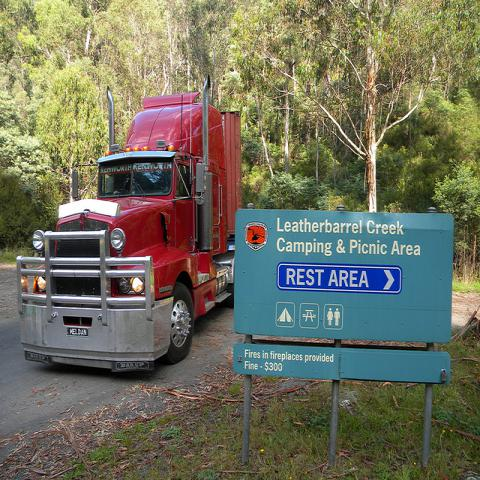truck: (15, 74, 242, 376)
